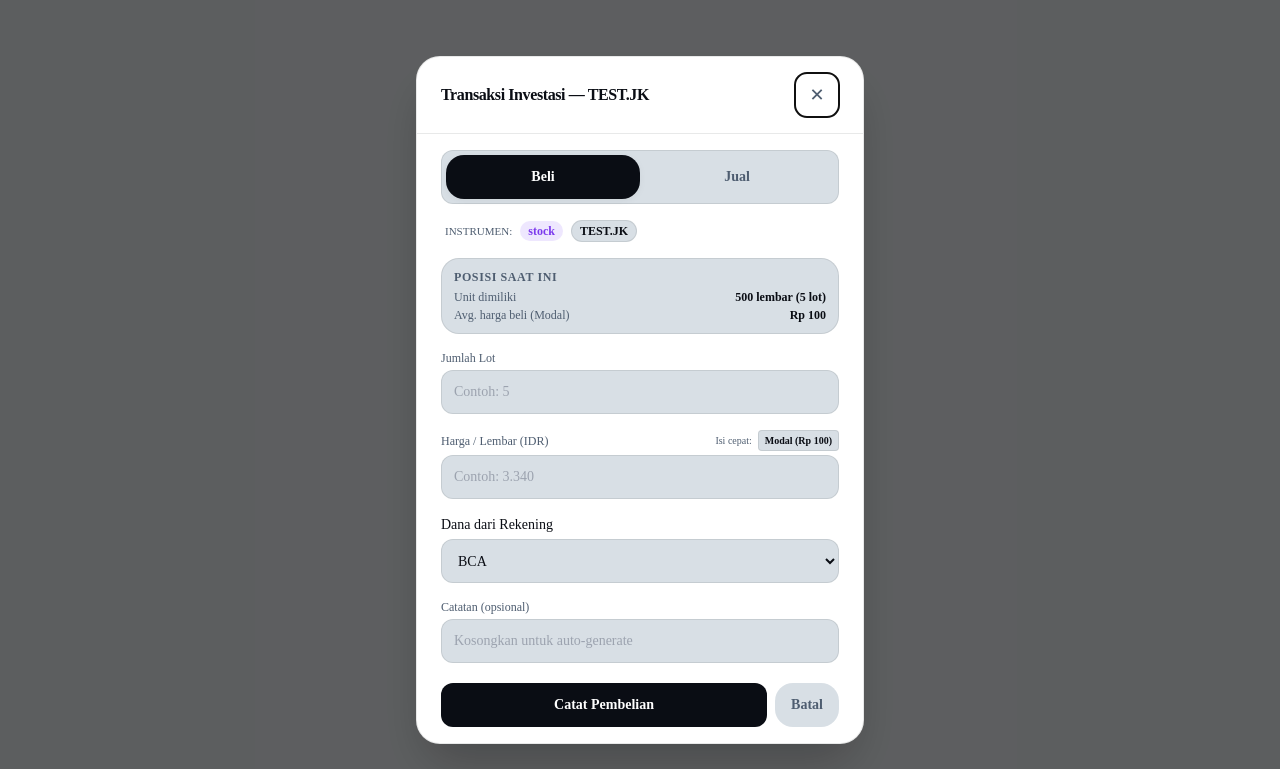
Test case: InvestmentTradeModal › previews funding cash and position effects for a buy
Type "1" into the number field labelled "Jumlah Lot" at (640,392), box [441, 370, 839, 414]
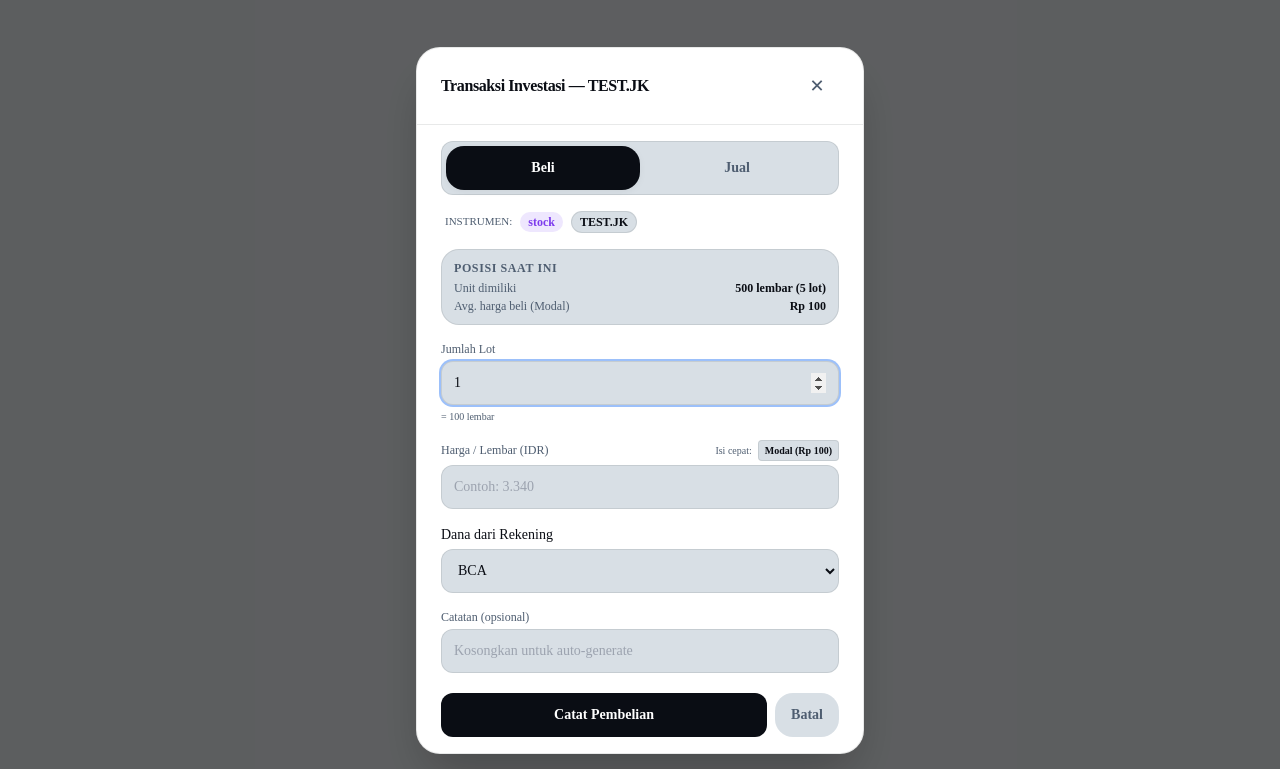
Type "100" into the field labelled "Harga / Lembar (IDR)" at (640,486), box [441, 464, 839, 508]
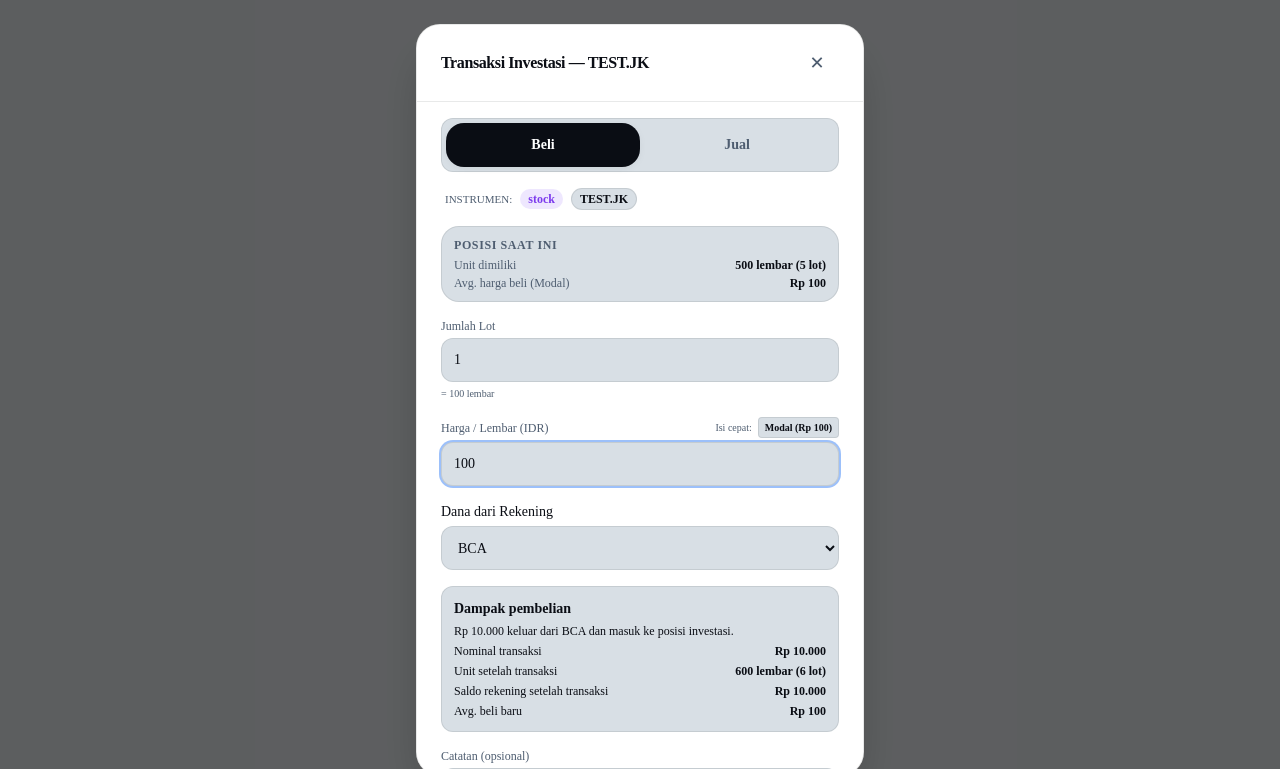
Check: the text "Rp 10.000" in the row of "Saldo rekening setelah transaksi" is shown, box [775, 684, 826, 698]
Check: the text "Unit setelah transaksi" is shown, box [454, 663, 557, 679]
Check: the text "600 lembar (6 lot)" is shown, box [735, 663, 826, 679]
